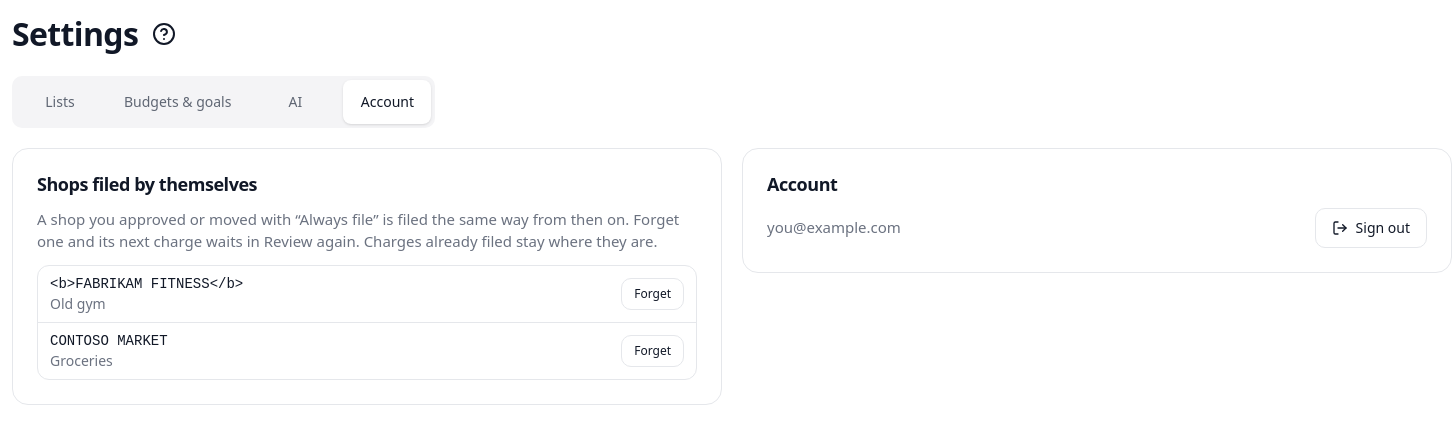
Test case: SettingsScreen, shops filed by themselves (N17) › forgets one, which leaves its category free to remove, and says what happens next
Click the button with aria-label "Forget <b>FABRIKAM FITNESS</b>".
click(653, 294)  # box [621, 278, 684, 310]
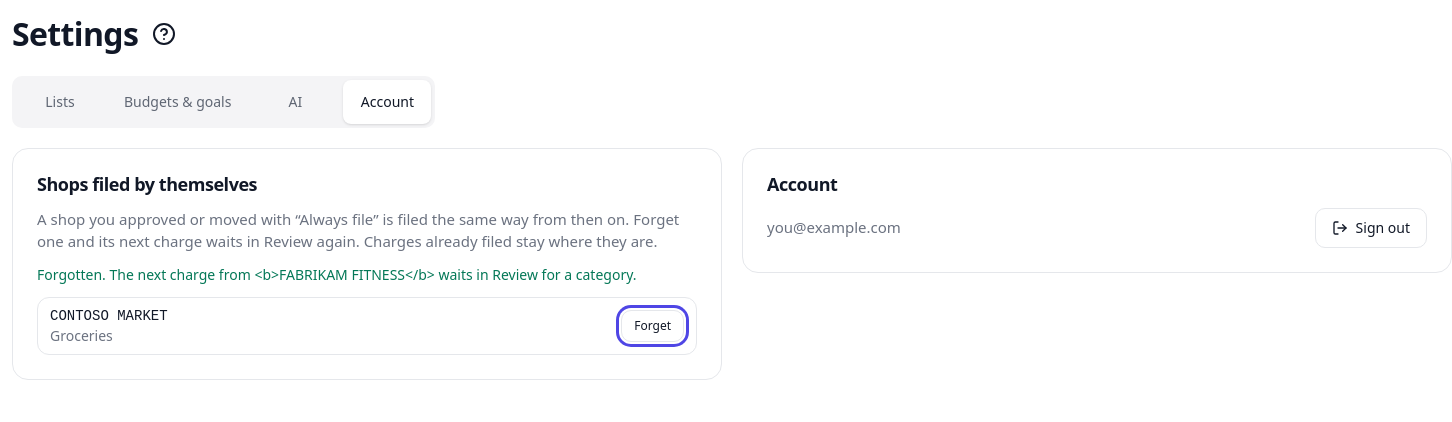
Check: the text "Forgotten. The next charge from <b>FABRIKAM FITNESS</b> waits in Review for a category." is shown, box [37, 264, 636, 284]
Check: the number of list items is 1, box [38, 298, 696, 354]
